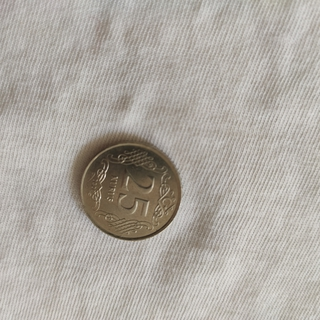25KURUS: (78, 140, 183, 240)
